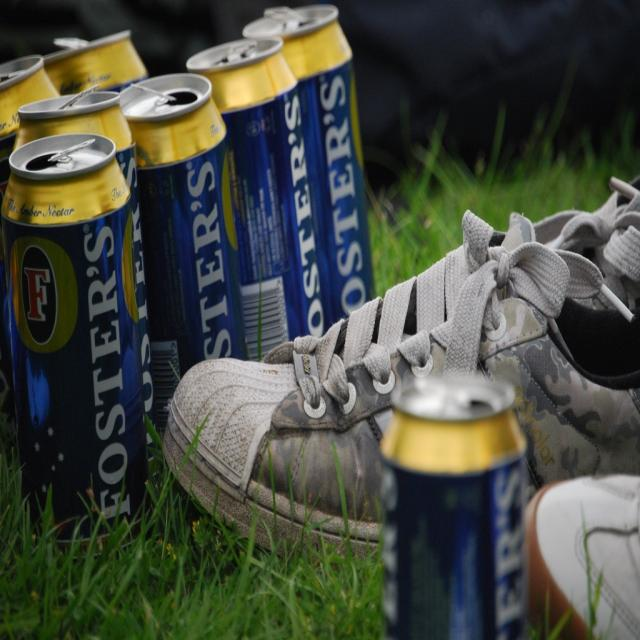fosters: (9, 228, 81, 354)
